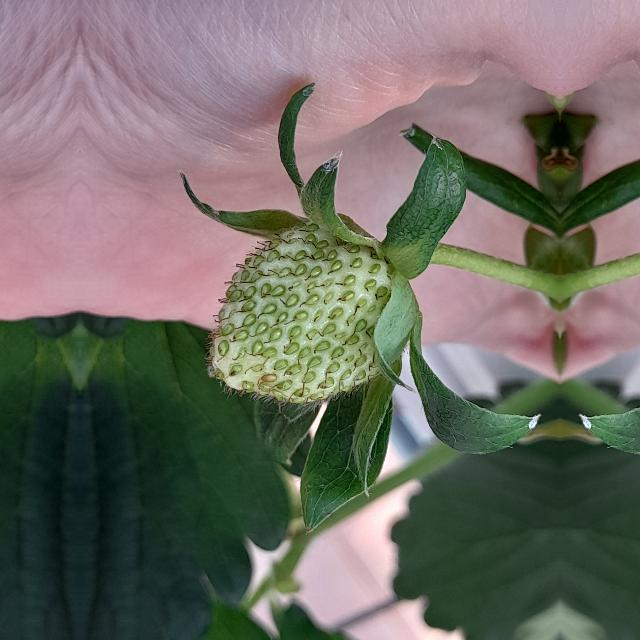Health_25: (202, 225, 410, 413)
